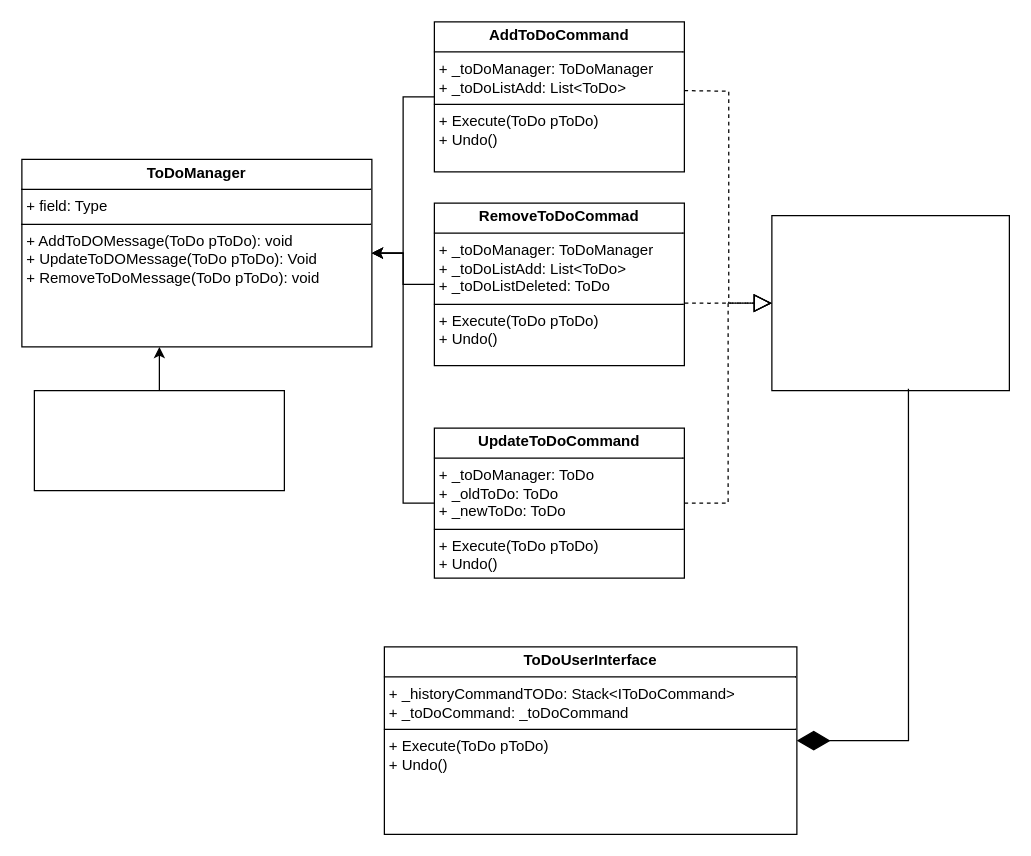
Some shapes in this 1031 by 856 pixel diagram are drawn without their labels. The box of each missing label's shape, as (x1, y1, x2, y2) in pixels:
<<Interface>> IToDoCommand + Execute(ToDo pToDo) + Undo(): (771, 214, 1009, 391)
ToDo + id: Int + Title: String: (33, 389, 284, 491)
